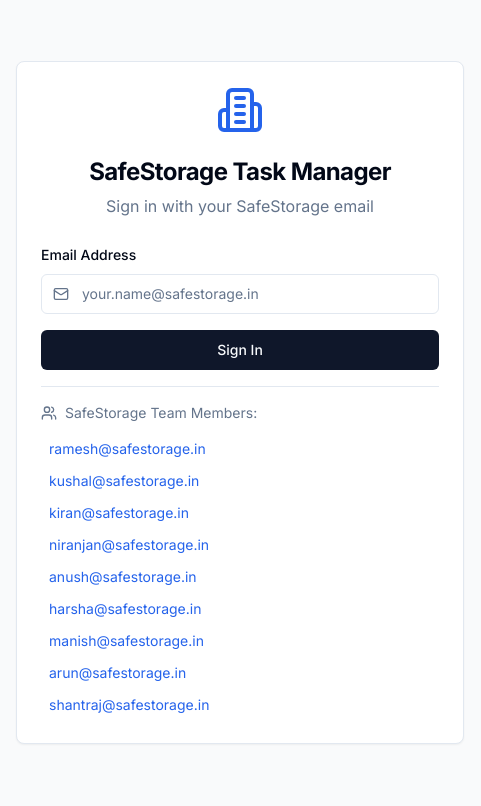
Test case: LoginForm - 100% Coverage › Form Validation › shows error when email does not end with @safestorage.in
Type "test@gmail.com" into the field labelled "Email Address".
click(240, 294); type("test@gmail.com")  # box 41,274 -> 439,314
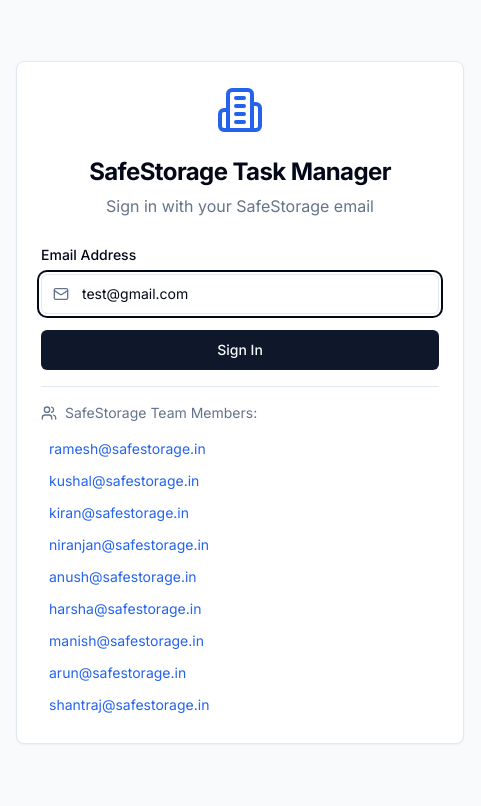
Click the button "Sign In".
click(240, 350)  # box 41,330 -> 439,370
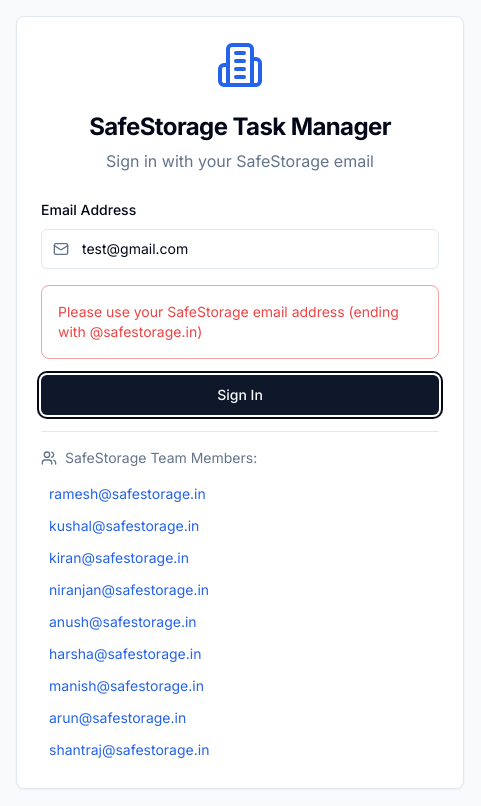
Check: the text "Please use your SafeStorage email address (ending with @safestorage.in)" is shown, box 58,302 -> 422,342
